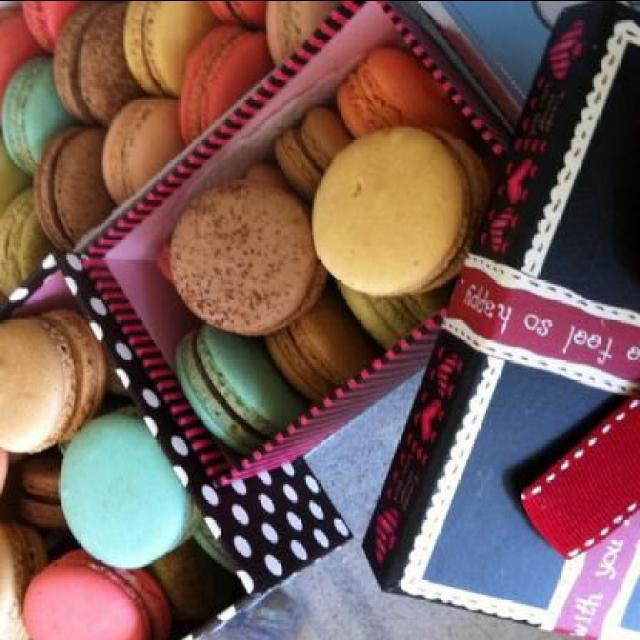Macaron: (2, 1, 494, 639)
